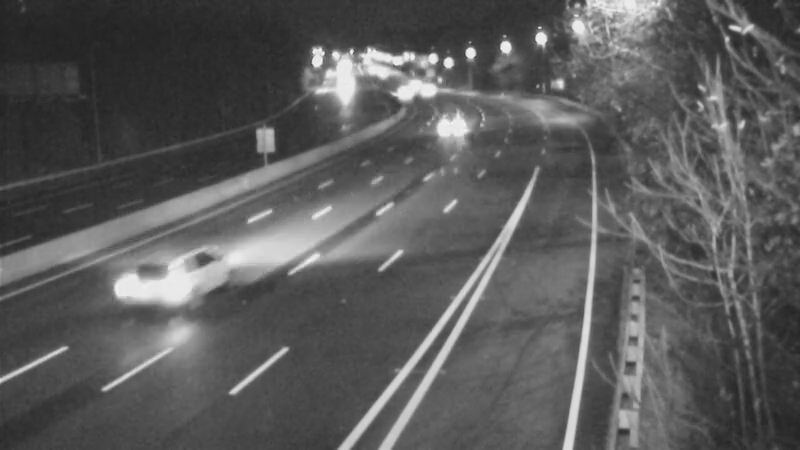vehicle: (112, 247, 192, 327), (389, 61, 439, 111), (401, 65, 451, 115), (377, 68, 427, 118), (427, 98, 477, 148), (321, 62, 371, 112)
